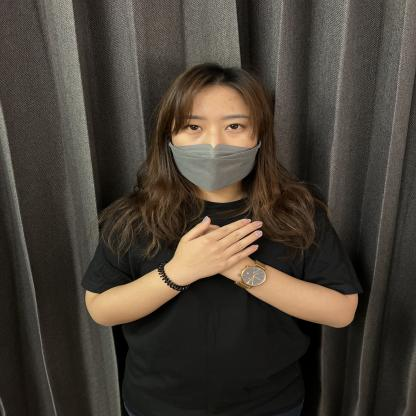Grieve: (137, 197, 314, 310)
